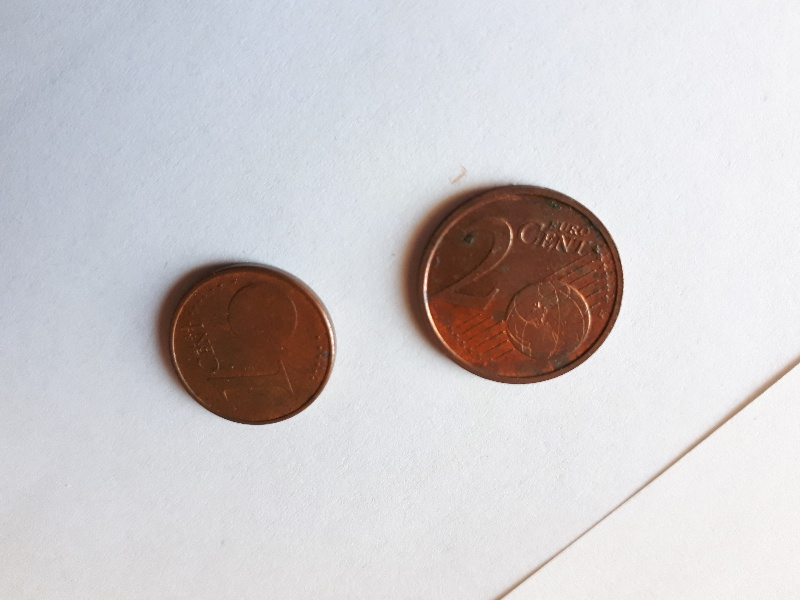1 cent: (167, 261, 343, 428)
2 cent: (417, 180, 626, 387)
